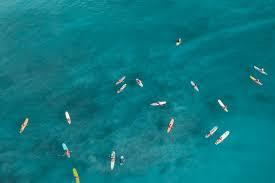Person: (64, 149, 73, 157), (119, 155, 125, 165), (191, 82, 200, 88), (207, 131, 213, 137), (255, 78, 261, 84), (175, 37, 180, 43), (168, 123, 173, 129), (136, 79, 141, 84), (74, 175, 79, 180), (21, 122, 24, 128)
Surf board: (213, 128, 232, 147), (60, 142, 74, 160), (246, 75, 265, 88), (204, 124, 219, 140), (252, 63, 268, 77), (216, 98, 229, 112), (149, 99, 168, 108), (19, 117, 29, 134), (71, 166, 81, 183), (189, 80, 202, 93), (164, 118, 175, 133), (115, 83, 127, 96), (64, 109, 73, 126), (134, 76, 145, 89), (110, 150, 116, 170), (115, 75, 127, 85), (174, 38, 182, 47)
